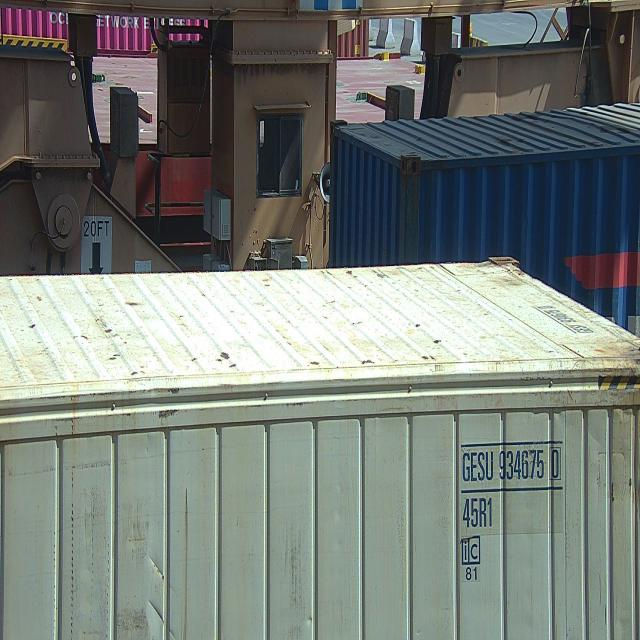dent: (141, 543, 178, 640)
